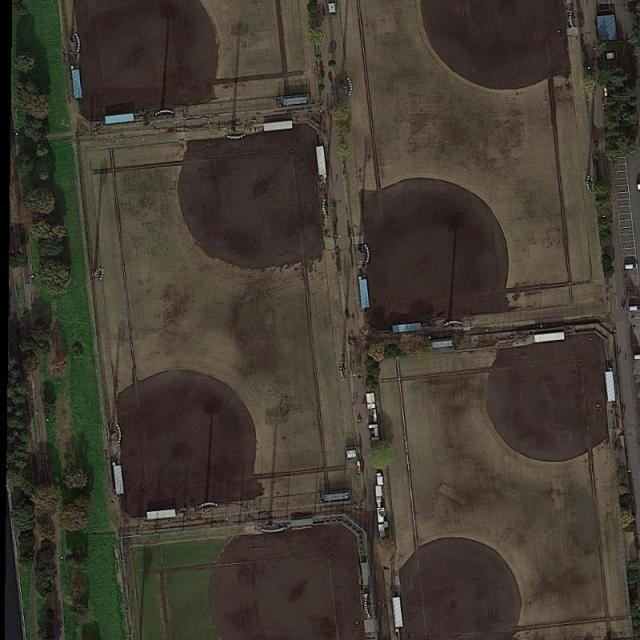vehicle: (625, 262, 639, 269), (629, 304, 640, 311), (634, 354, 640, 359)
